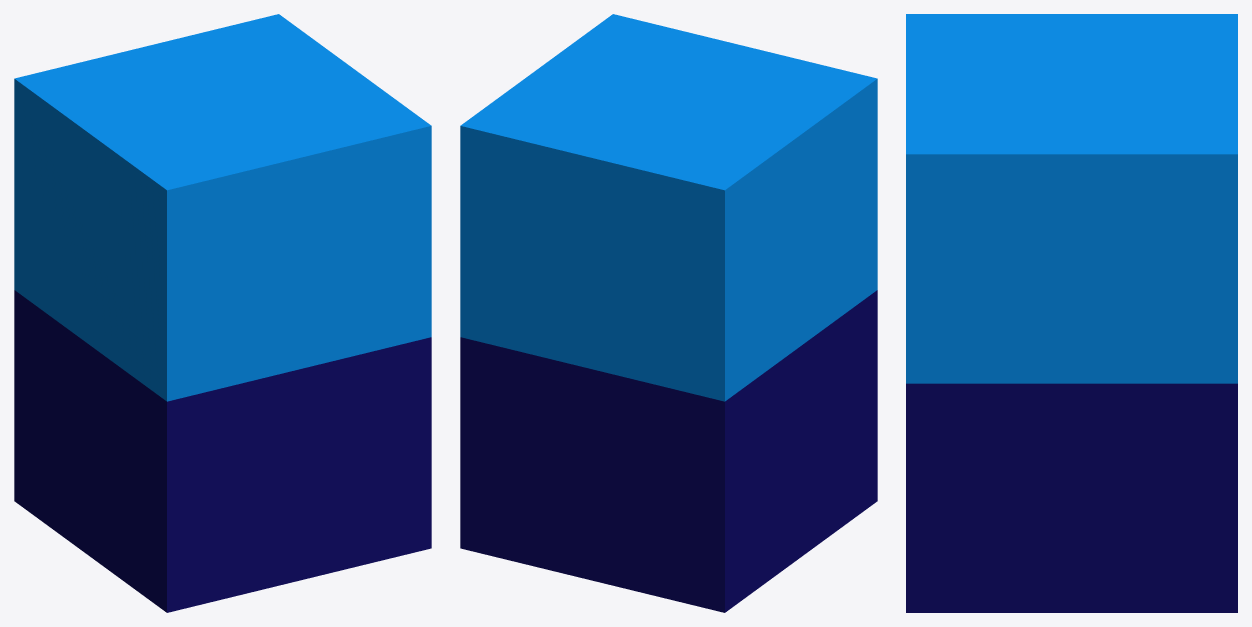
Rendered from Eye.fbx.
The picture shows the model from 3 angles, left to right: view 1: azimuth 30°, elevation 25°; view 2: azimuth 150°, elevation 25°; view 3: azimuth 270°, elevation 25°; orthographic projection. The views are drawn at different scales.
Visible parts, largest first — view 1: Cube.050; view 2: Cube.050; view 3: Cube.050.
Boxes of the visible parts, left/top/right/bottom form: Cube.050: left=14, top=14, right=431, bottom=612; Cube.050: left=460, top=14, right=877, bottom=612; Cube.050: left=906, top=14, right=1237, bottom=612.
Size of the model in its own units: 27.8 by 42.43 by 27.8.
